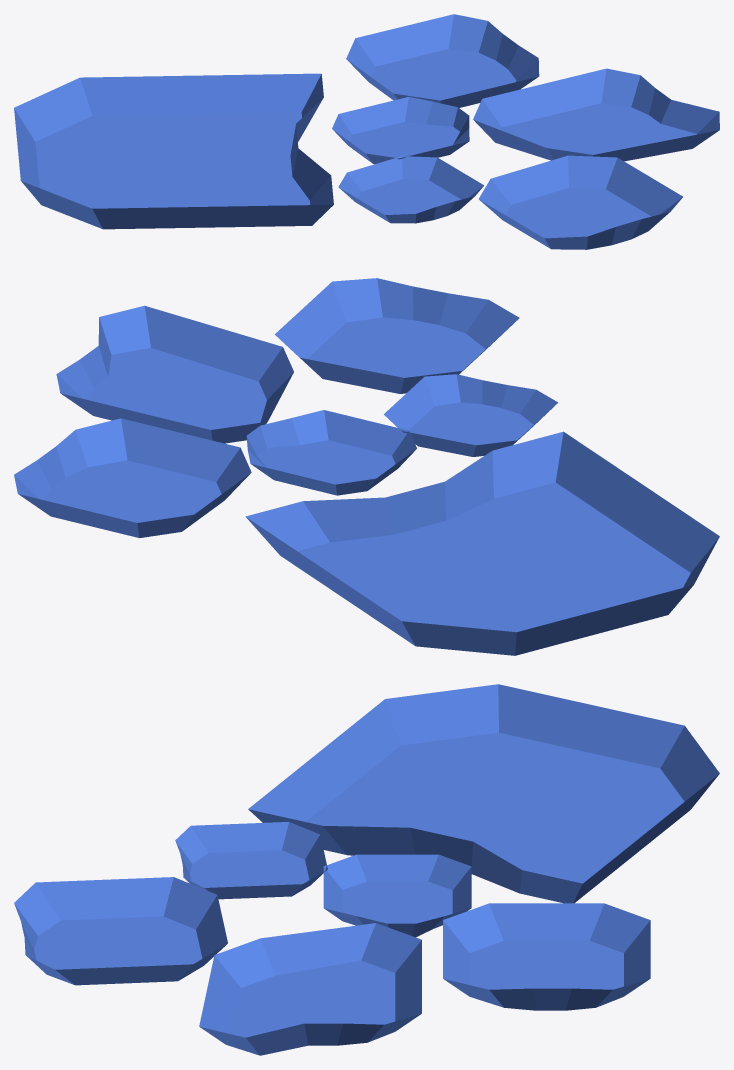
The model's file is sp_stone01.glb.
The picture shows the model from 3 angles, top to bottom: view 1: azimuth 30°, elevation 25°; view 2: azimuth 150°, elevation 25°; view 3: azimuth 270°, elevation 25°; orthographic projection. The views are drawn at different scales.
Parts seen in each view (by area): view 1: SP_Stone01; view 2: SP_Stone01; view 3: SP_Stone01.
Boxes of the visible parts, box(x1,y1,x2,y2) form: SP_Stone01: box(14, 14, 719, 249); SP_Stone01: box(14, 278, 719, 655); SP_Stone01: box(14, 684, 719, 1055).
Size of the model in its own units: 37.63 by 1.79 by 31.75.
Materials: 1 (1 with a texture image).
